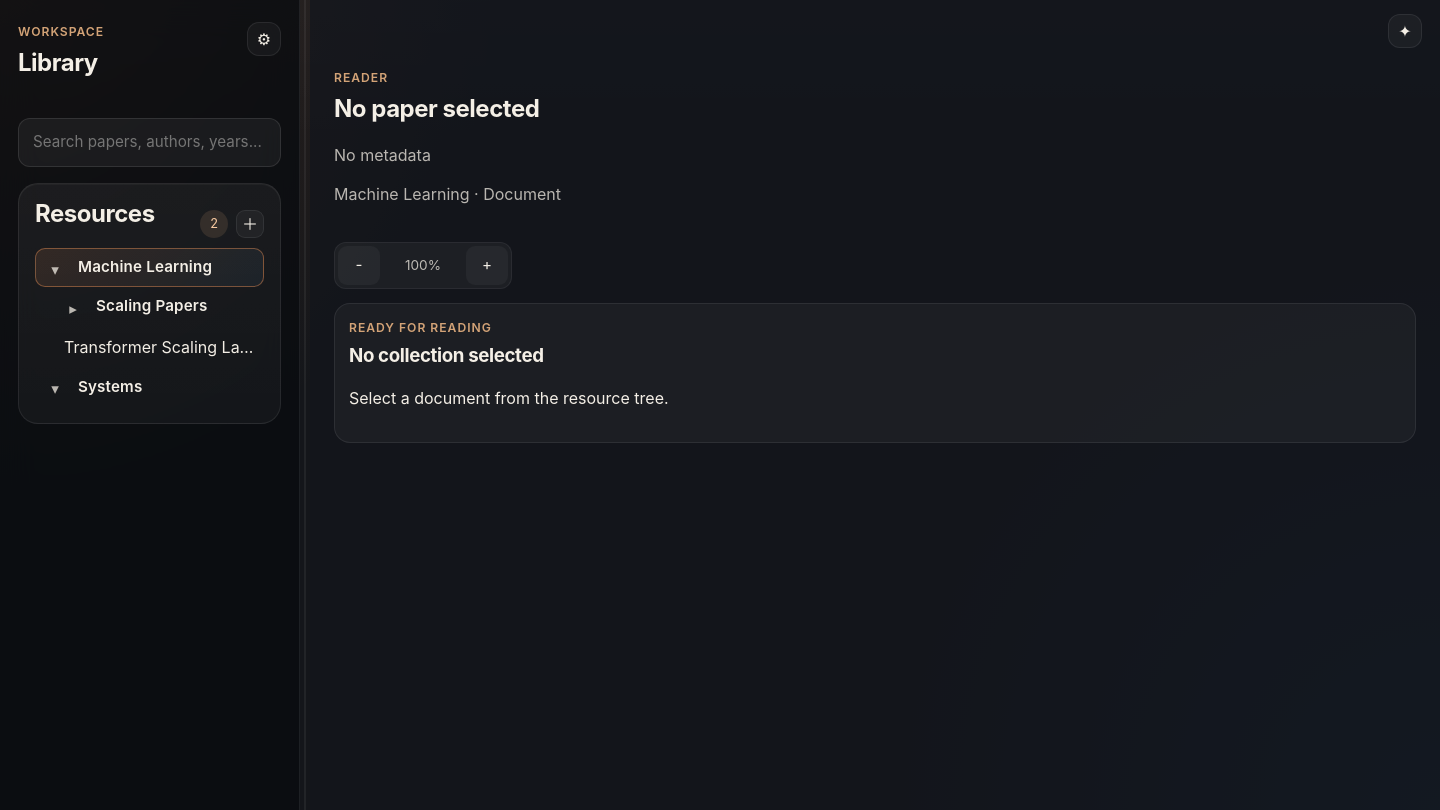
Scenario: App reading workspace › clears open papers, active paper state, and AI references after recursive collection delete
Click the list item "Transformer Scaling Laws" at {"x": 150, "y": 347}, box [35, 328, 264, 366]
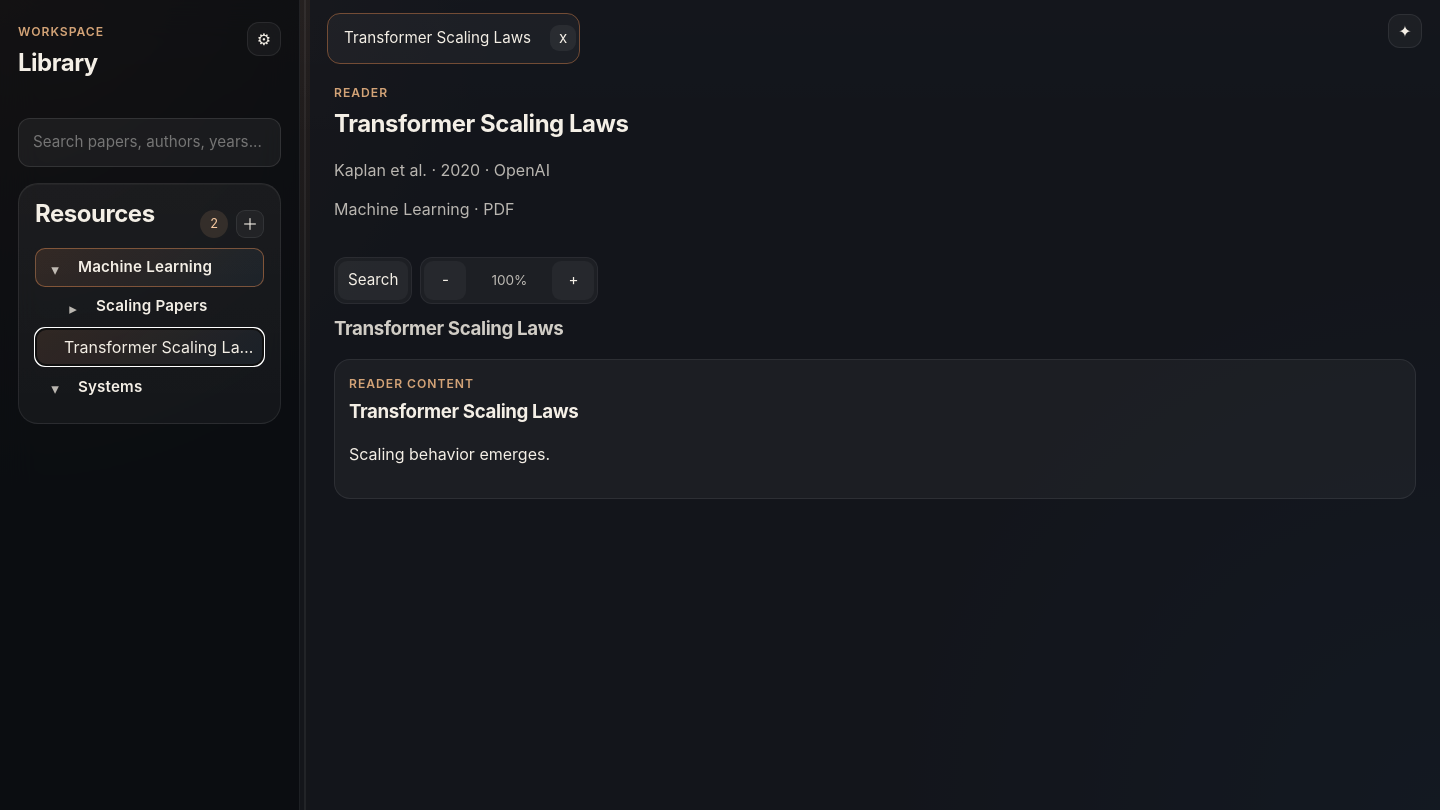
Click the button named "Open AI panel" at {"x": 1405, "y": 31}, box [1388, 14, 1422, 48]
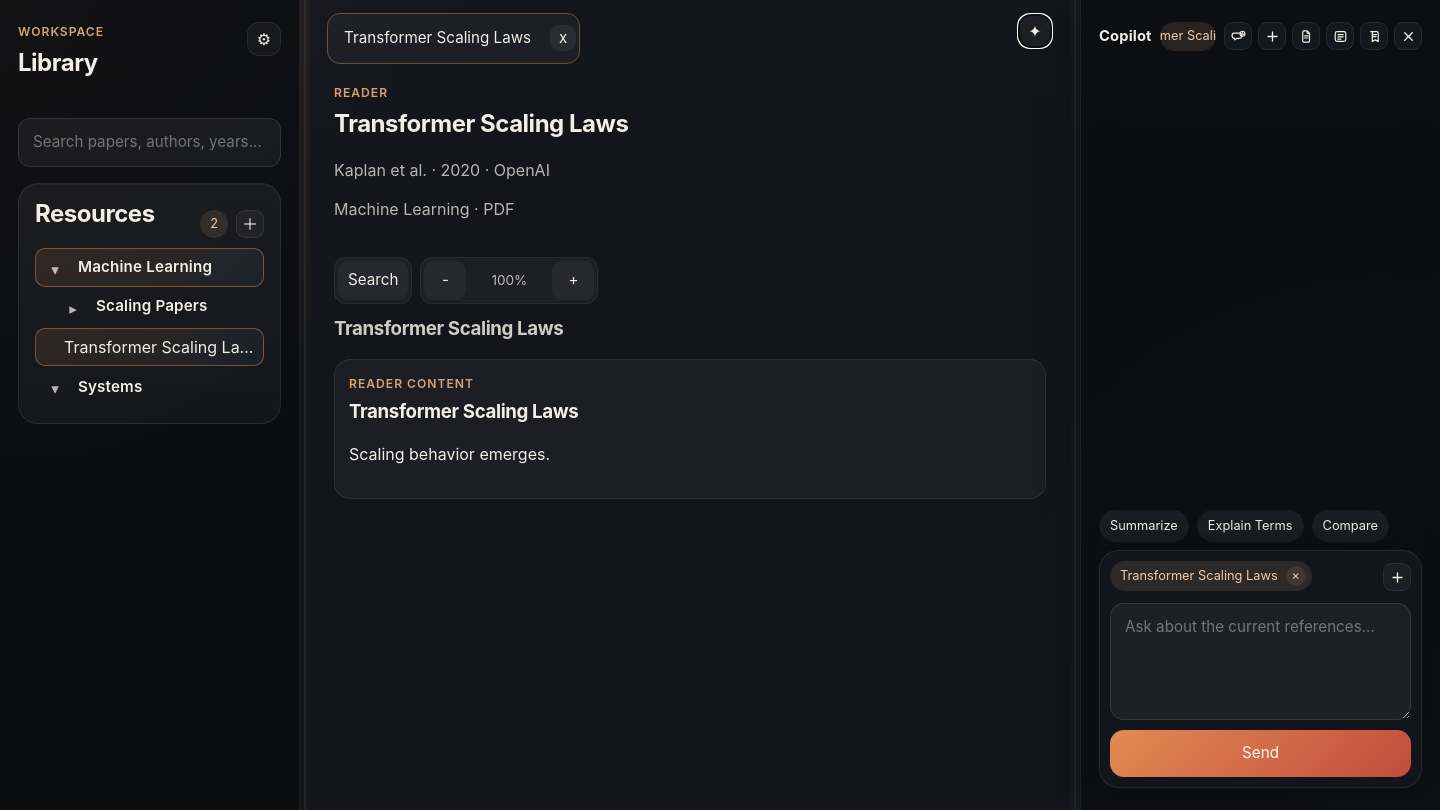
Expected: the 3rd text "Transformer Scaling Laws" is shown, [1120, 567, 1278, 585]
Right-click the list item "Machine Learning" at {"x": 150, "y": 268}, box [35, 248, 264, 287]
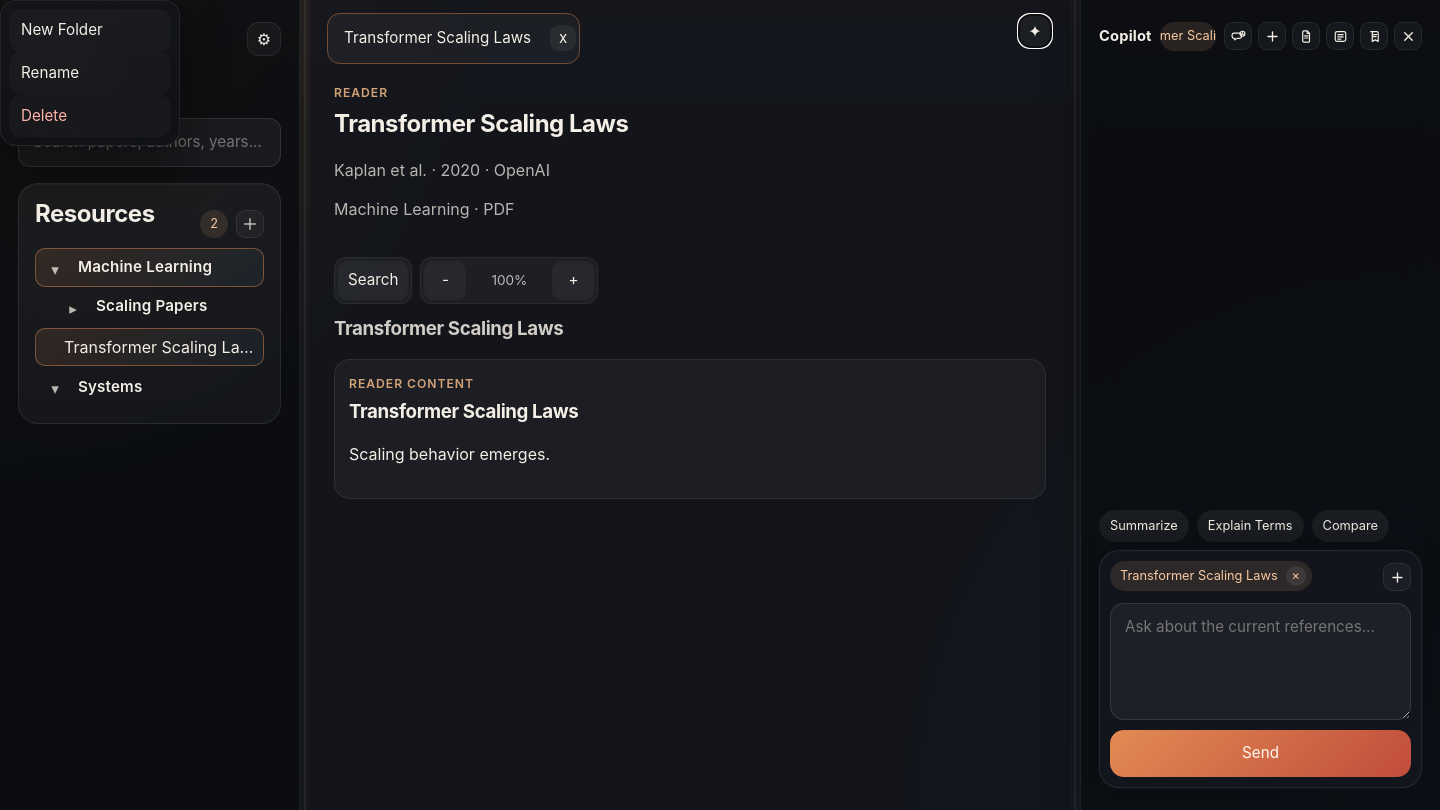
Click the menu item "Delete" at {"x": 90, "y": 116}, box [9, 95, 171, 137]
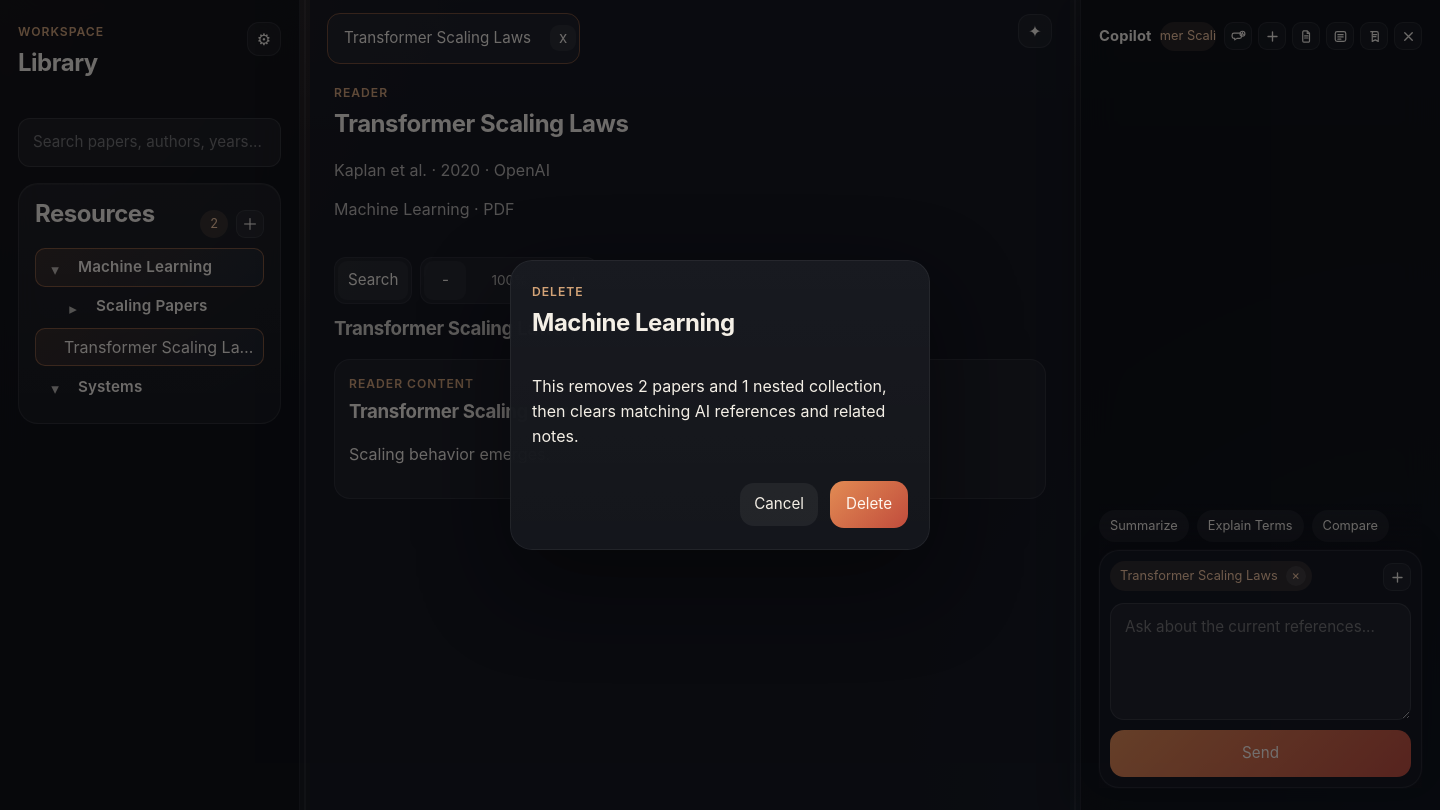
Click the button "Delete" at {"x": 869, "y": 505}, box [830, 482, 908, 528]
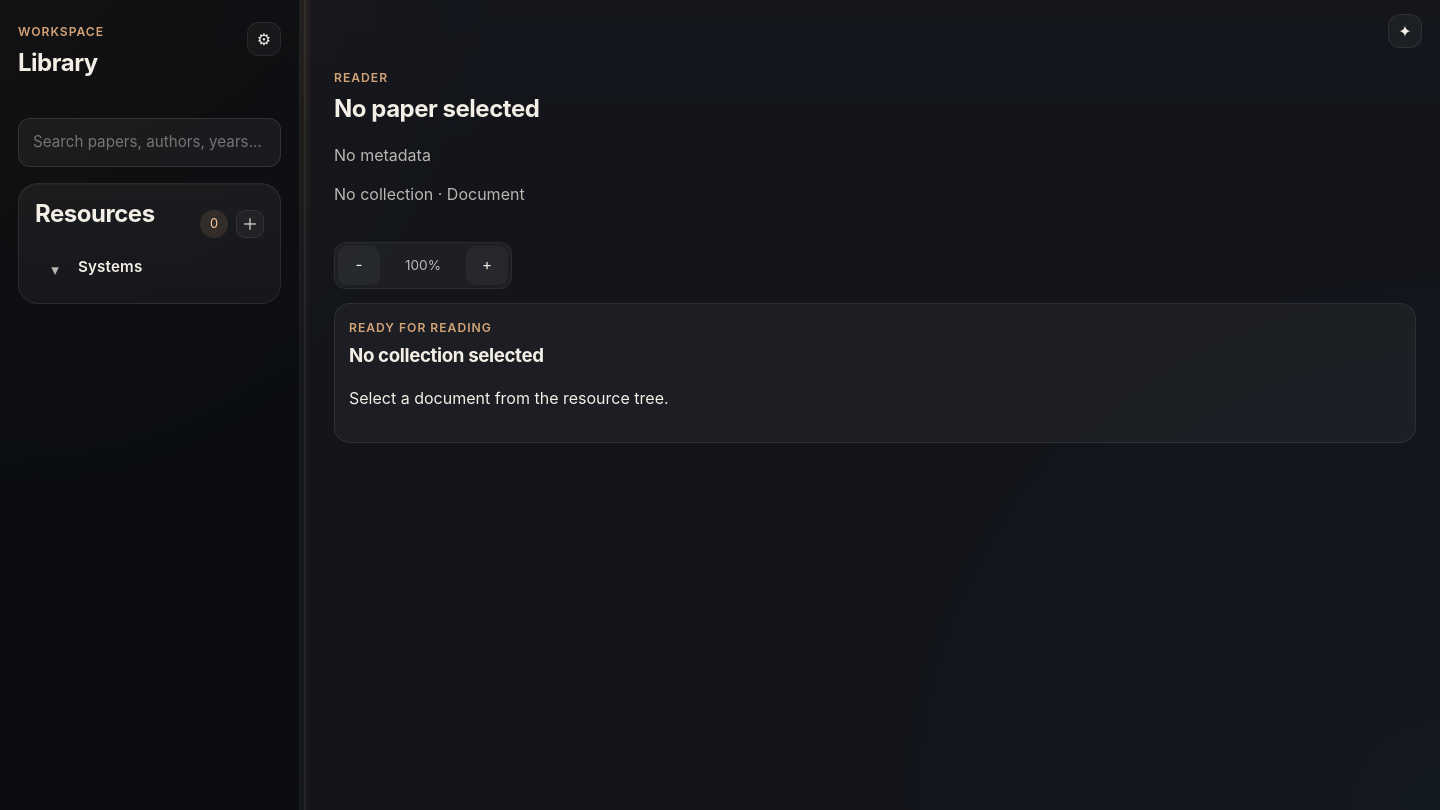
Expected: the list item "Transformer Scaling Laws" is gone
Expected: the heading "No paper selected" is shown, [334, 95, 539, 124]
